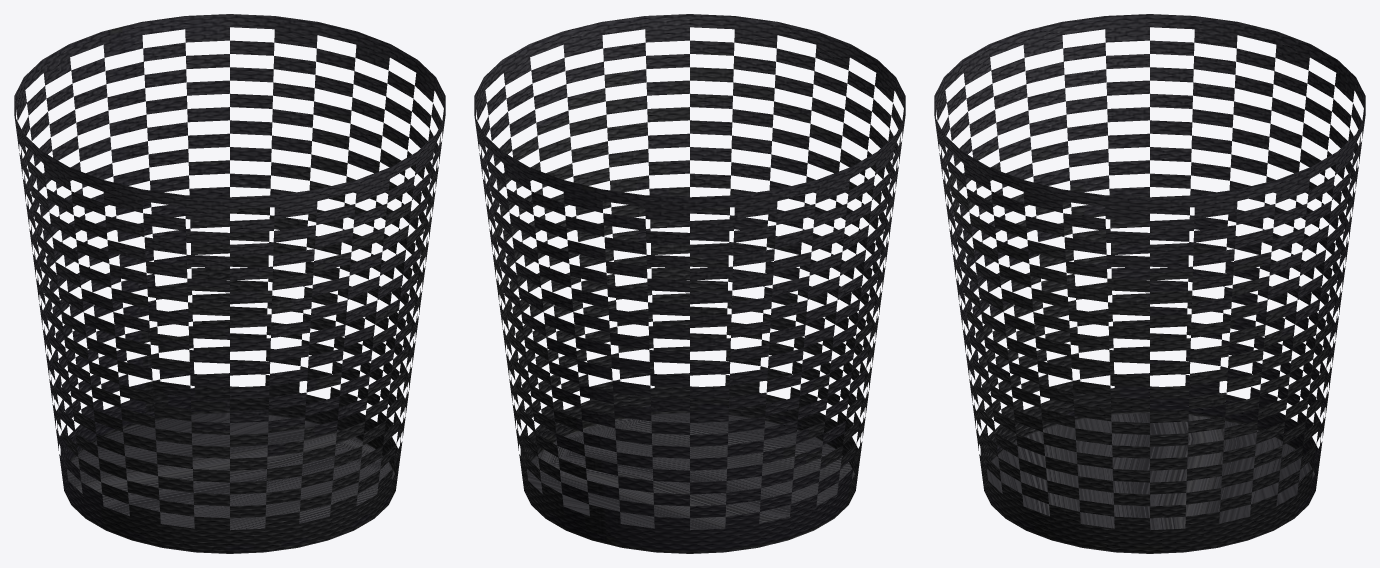
File: trashcan.FBX
3 renders of one model, left to right at view 1: azimuth 30°, elevation 25°; view 2: azimuth 150°, elevation 25°; view 3: azimuth 270°, elevation 25°, orthographic.
Parts seen in each view (by area): view 1: Cylinder001; view 2: Cylinder001; view 3: Cylinder001.
Boxes of the visible parts, <box> form: Cylinder001: <box>14,14,445,553</box>; Cylinder001: <box>474,14,905,553</box>; Cylinder001: <box>934,14,1365,553</box>.
Size of the model in its own units: 260 by 250 by 259.
Materials: 1 (1 with a texture image).
